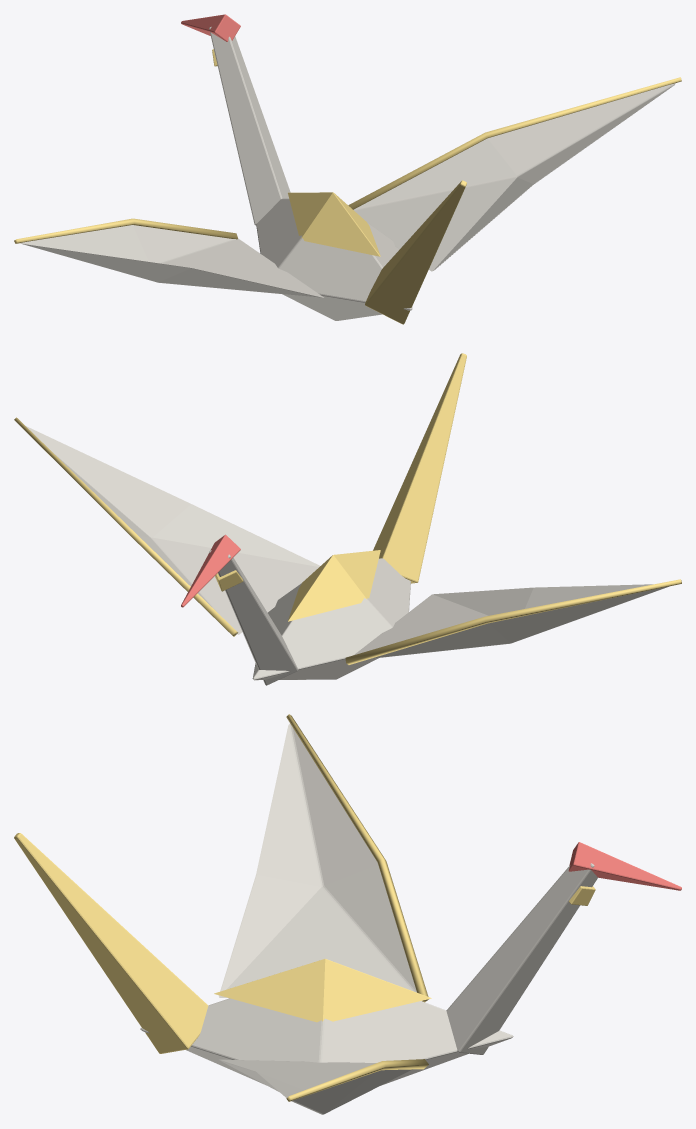
File: origami_crane.glb
The picture shows the model from 3 angles, top to bottom: view 1: azimuth 30°, elevation 25°; view 2: azimuth 150°, elevation 25°; view 3: azimuth 270°, elevation 25°; orthographic projection. The views are drawn at different scales.
Parts seen in each view (by area): view 1: CraneBody, NeckGoldBand, HeadBeak; view 2: CraneBody, NeckGoldBand, HeadBeak; view 3: CraneBody, NeckGoldBand, HeadBeak.
Part boxes in pixels (box(x1,y1,x2,y2)): CraneBody: box(21, 26, 675, 320); NeckGoldBand: box(14, 49, 681, 324); HeadBeak: box(181, 14, 240, 41); CraneBody: box(26, 426, 669, 685); NeckGoldBand: box(14, 353, 681, 664); HeadBeak: box(181, 534, 240, 607); CraneBody: box(140, 723, 597, 1114); NeckGoldBand: box(14, 714, 595, 1101); HeadBeak: box(568, 842, 681, 890).
Bounding box in the file's own units: 10.73 × 3.58 × 7.89.
